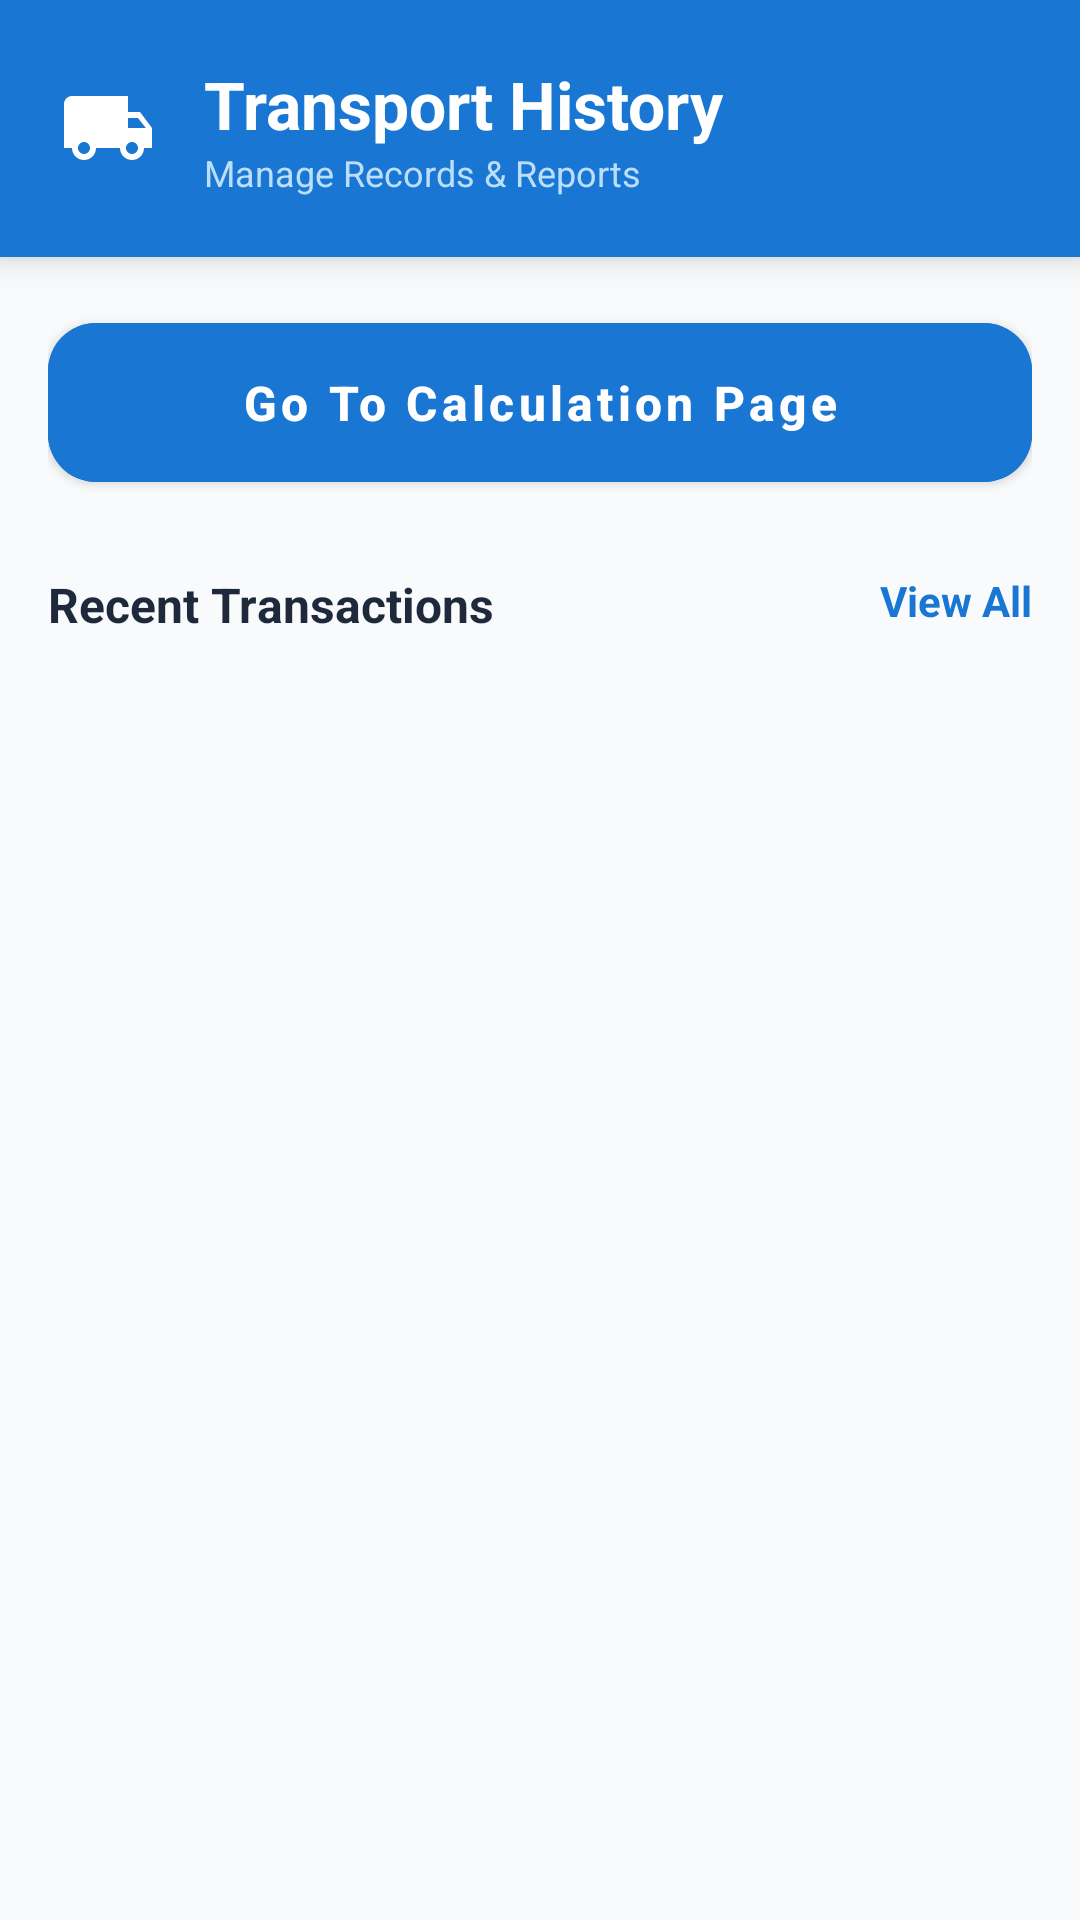

Locate icon controls on the screen. Image size 1080px x 1920px, boxes as (x1,y1,x2,y2).
local shipping: (64,96,152,160)
